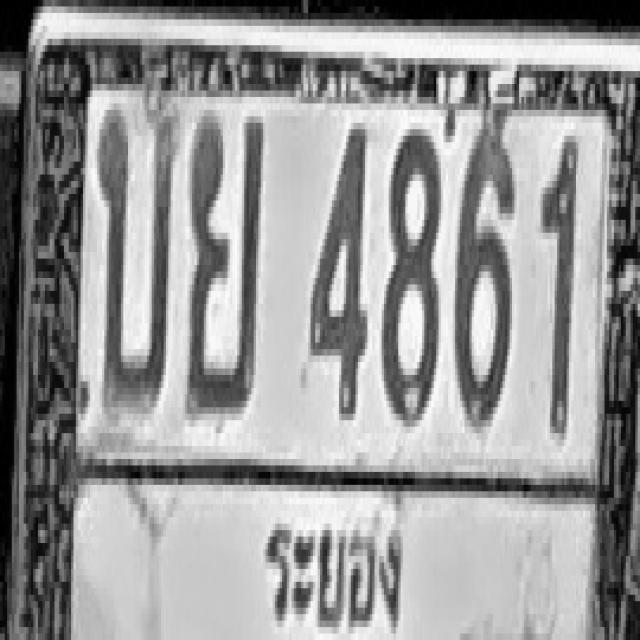1: (540, 132, 576, 430)
35BorBaiMai: (97, 100, 178, 404)
4: (309, 120, 366, 410)
43YorYak: (185, 113, 263, 411)
6: (454, 120, 513, 423)
8: (382, 126, 441, 417)
Rayong: (252, 482, 420, 640)
